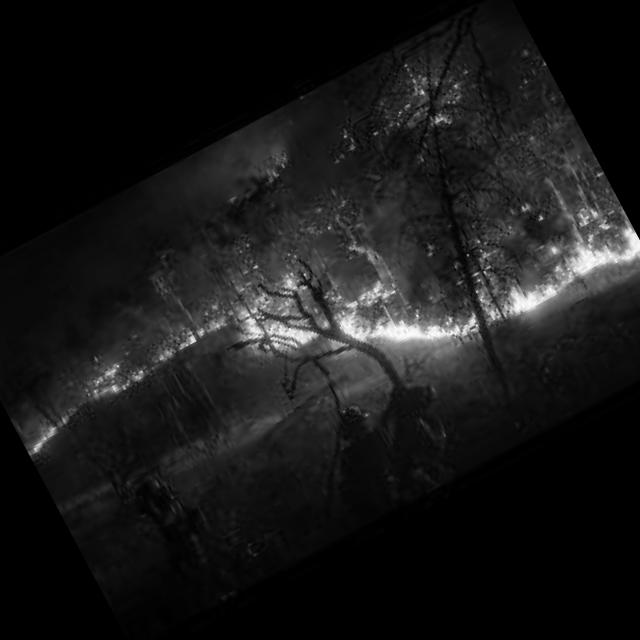fire: (1, 348, 136, 465), (113, 295, 246, 396), (360, 277, 482, 383), (312, 287, 394, 363)
